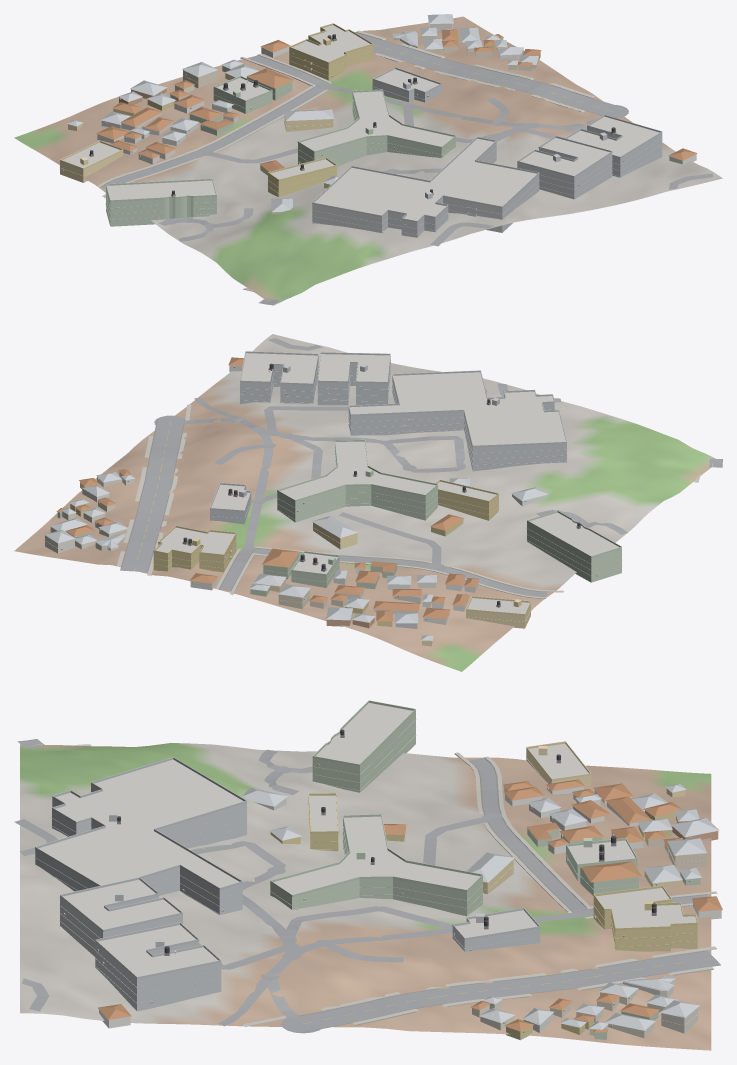
3 renders of one model, top to bottom at view 1: azimuth 30°, elevation 25°; view 2: azimuth 150°, elevation 25°; view 3: azimuth 270°, elevation 25°, orthographic. The views are drawn at different scales.
Parts seen in each view (by area): view 1: Buildings-col, Terrain-col, Roads-col, Details, Sidewalks-col; view 2: Terrain-col, Buildings-col, Roads-col, Details, Sidewalks-col; view 3: Terrain-col, Buildings-col, Roads-col, Details, Sidewalks-col.
Part boxes in pixels (x1,y1,x2,y2): Buildings-col: (60, 14, 697, 237); Terrain-col: (14, 16, 722, 305); Roads-col: (100, 31, 712, 305); Details: (59, 23, 662, 235); Sidewalks-col: (97, 30, 594, 297); Terrain-col: (14, 334, 715, 671); Buildings-col: (44, 353, 621, 646); Roads-col: (120, 338, 722, 596); Details: (45, 351, 622, 623); Sidewalks-col: (117, 404, 700, 598); Terrain-col: (20, 743, 711, 1050); Buildings-col: (35, 703, 722, 1040); Roads-col: (14, 739, 720, 1033); Details: (34, 700, 721, 1032); Sidewalks-col: (71, 744, 717, 1026).
Size of the model in its own units: 280 by 36.26 by 263.
